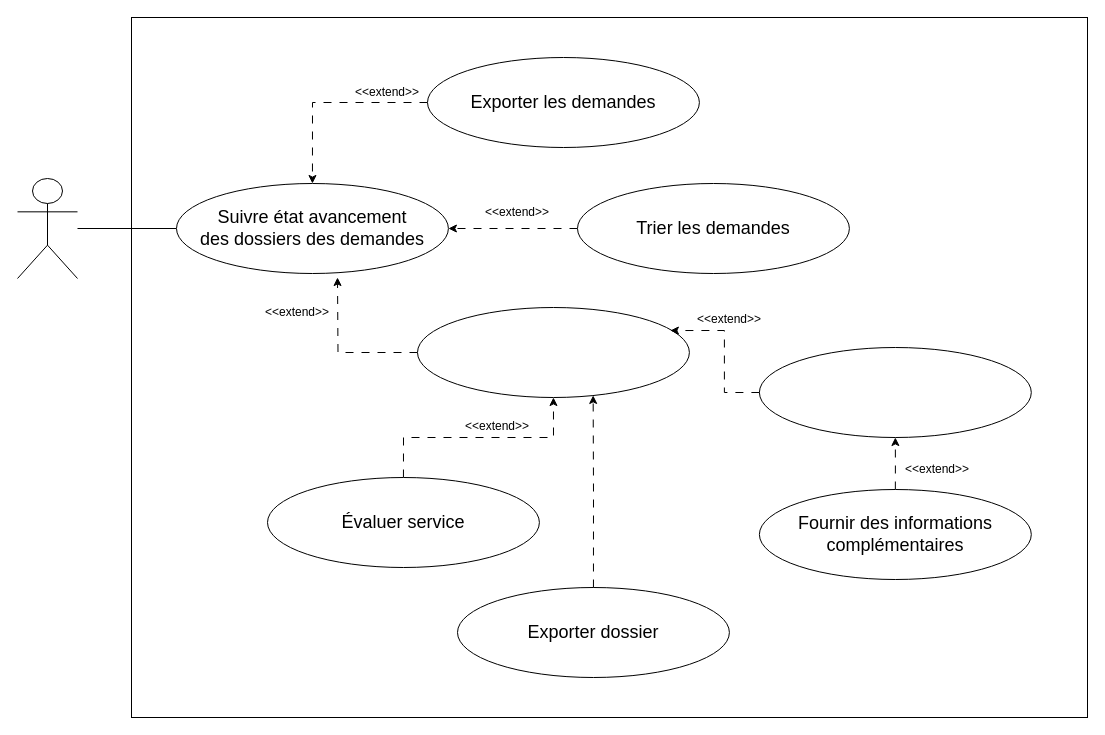
Some shapes in this 1105 by 735 pixel diagram are drawn without their labels. Here are the shapes that lost their labels. From the top down, the centre of each, then its label:
point 47,228: client
point 552,352: Consulter les details de mon dossier
point 894,392: Consulter historique des status du demande
